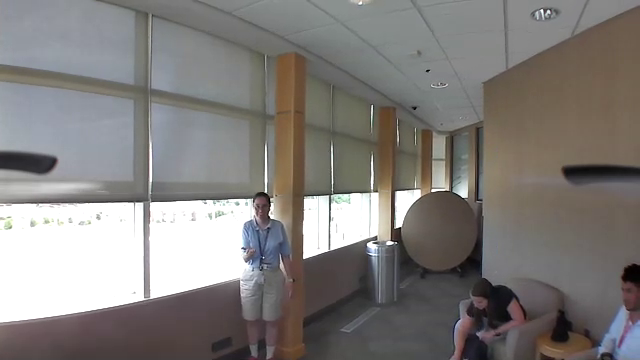land: (237, 243, 260, 259)
